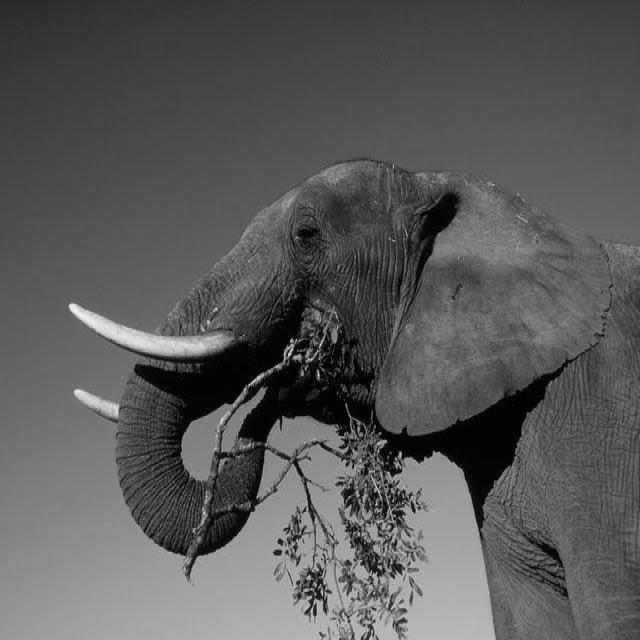Elephant: (67, 156, 639, 639)
